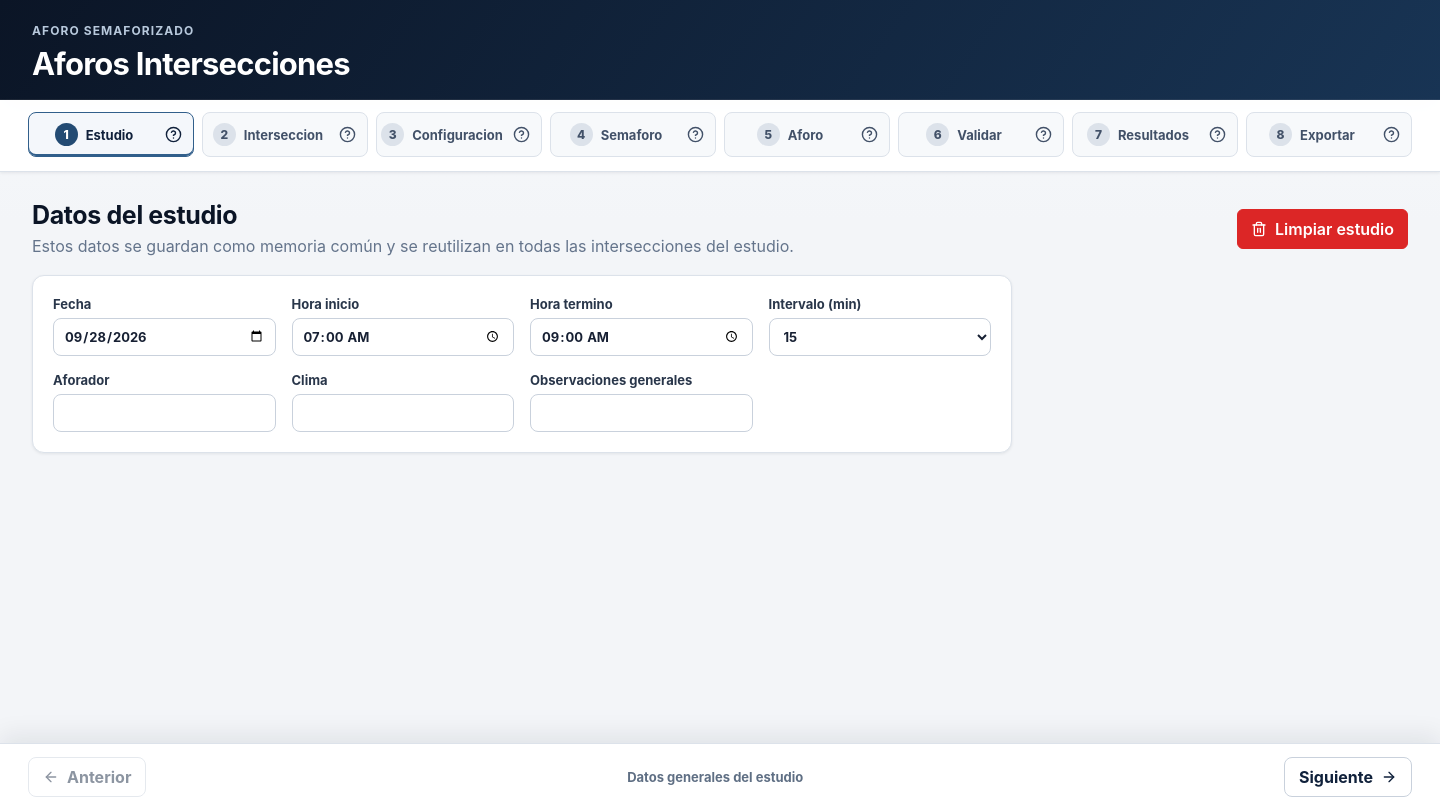
Test: WizardApp ficha aforo capture flow › shows capture progress and navigates from validation to Aforo
This screenshot has width=1452, height=810.
Click the button "2 Interseccion".
click(268, 135)  # box [208, 118, 328, 151]
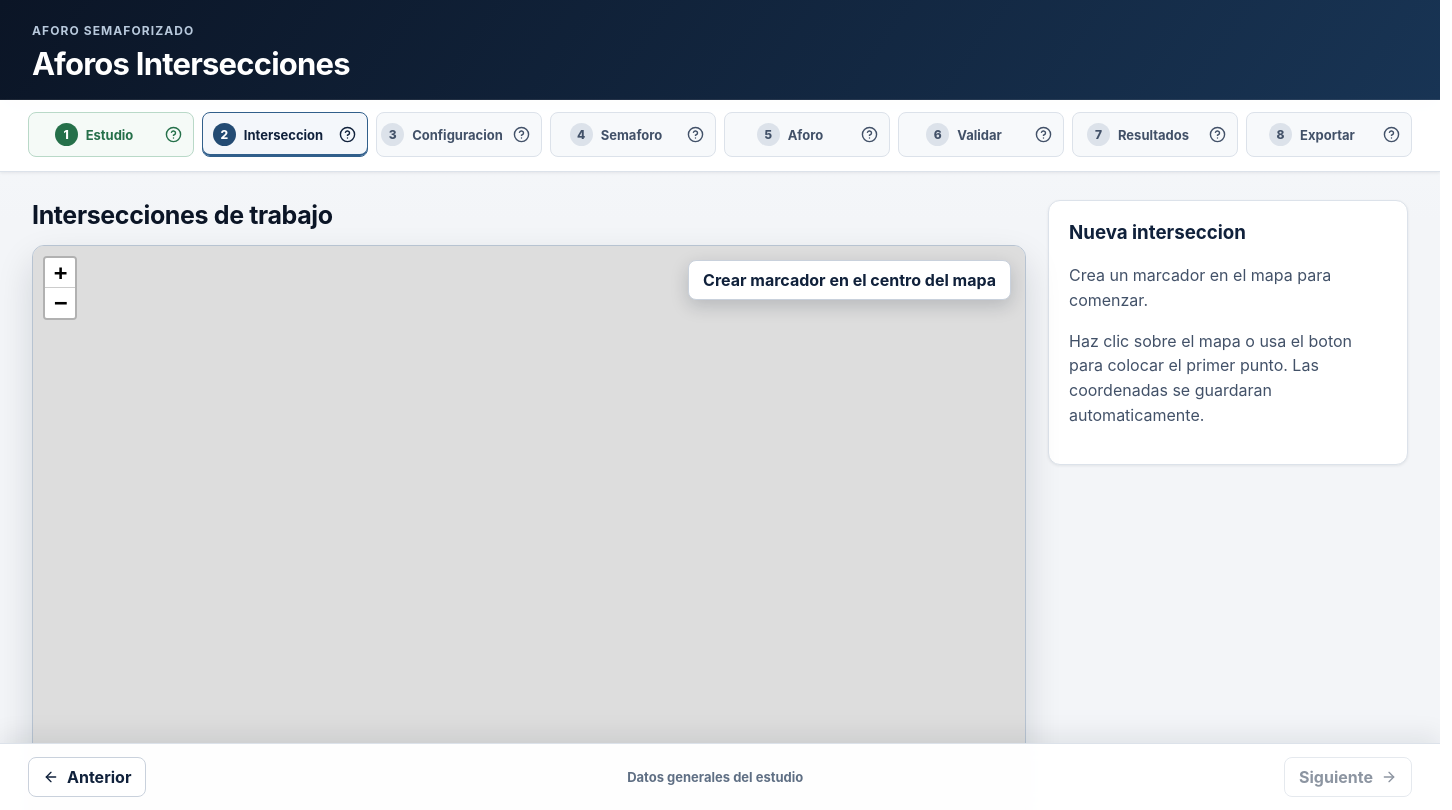
Click the button with aria-label "Crear una intersección en el centro visible del mapa".
click(850, 280)  # box [688, 260, 1011, 300]
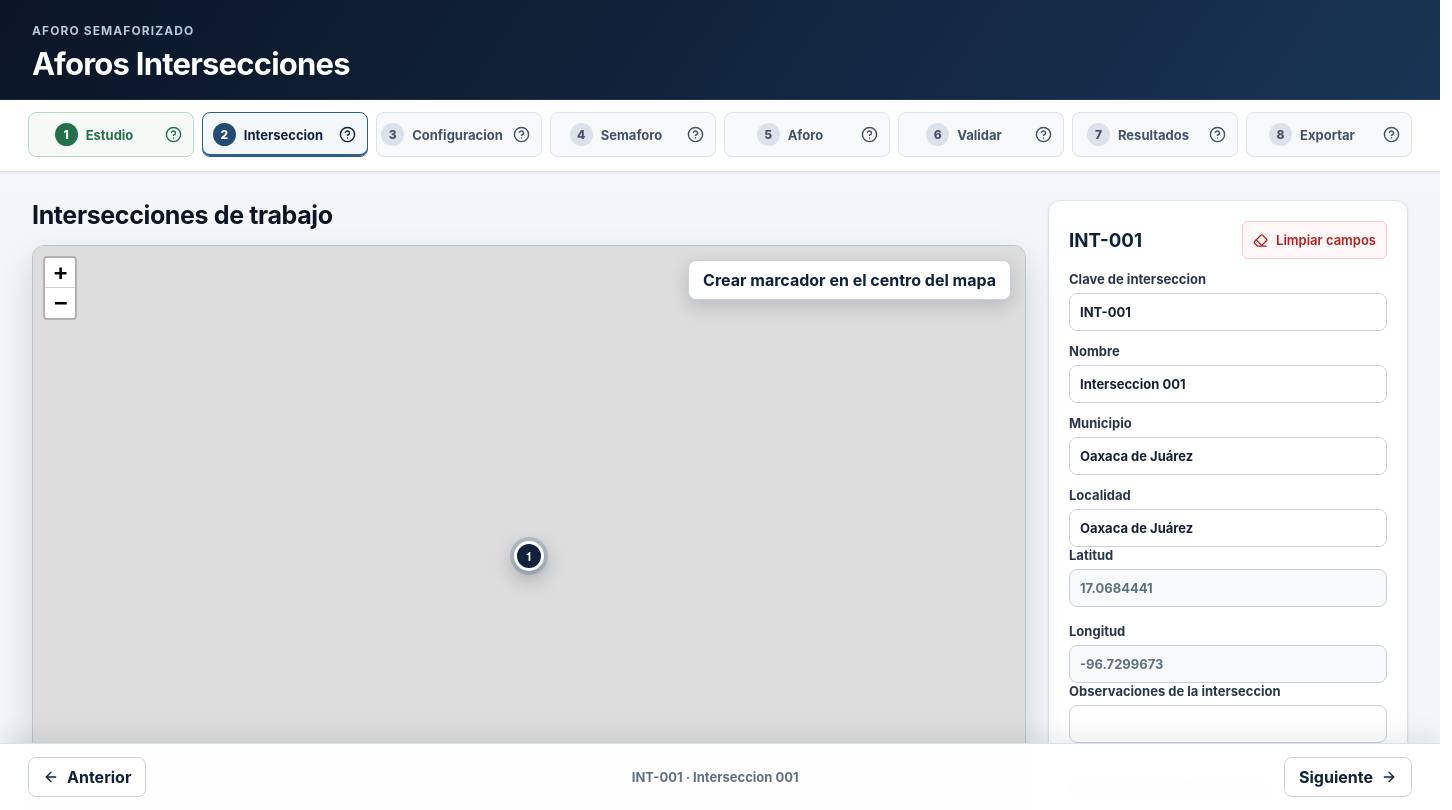
Click the button "5 Aforo".
click(790, 135)  # box [730, 118, 850, 151]
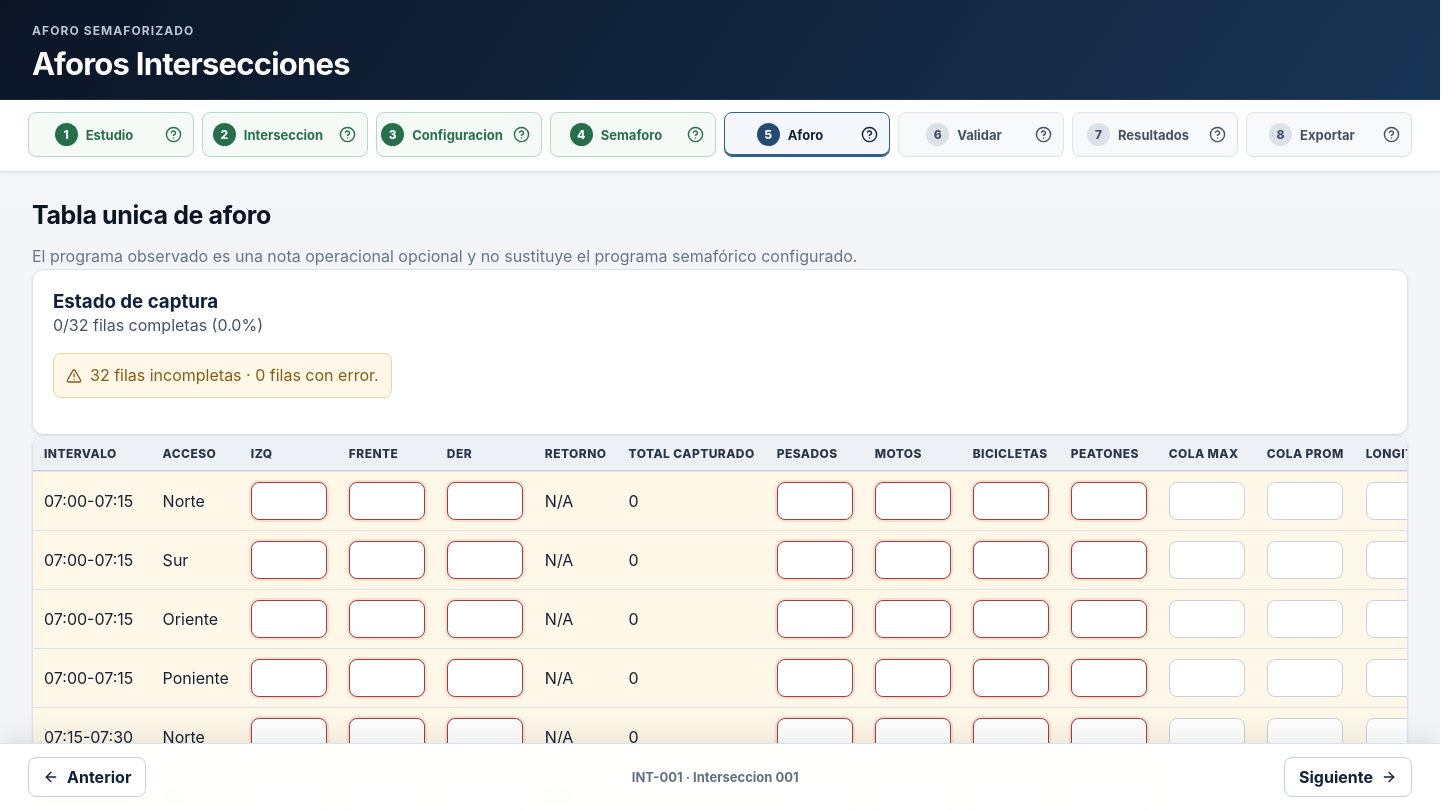
Expected: the text "0/32 filas completas (0.0%)" is shown, [53, 313, 263, 338]
Expected: the text "32 filas incompletas · 0 filas con error." is shown, [53, 354, 392, 398]
Click the button "6 Validar".
click(964, 135)  # box [904, 118, 1024, 151]
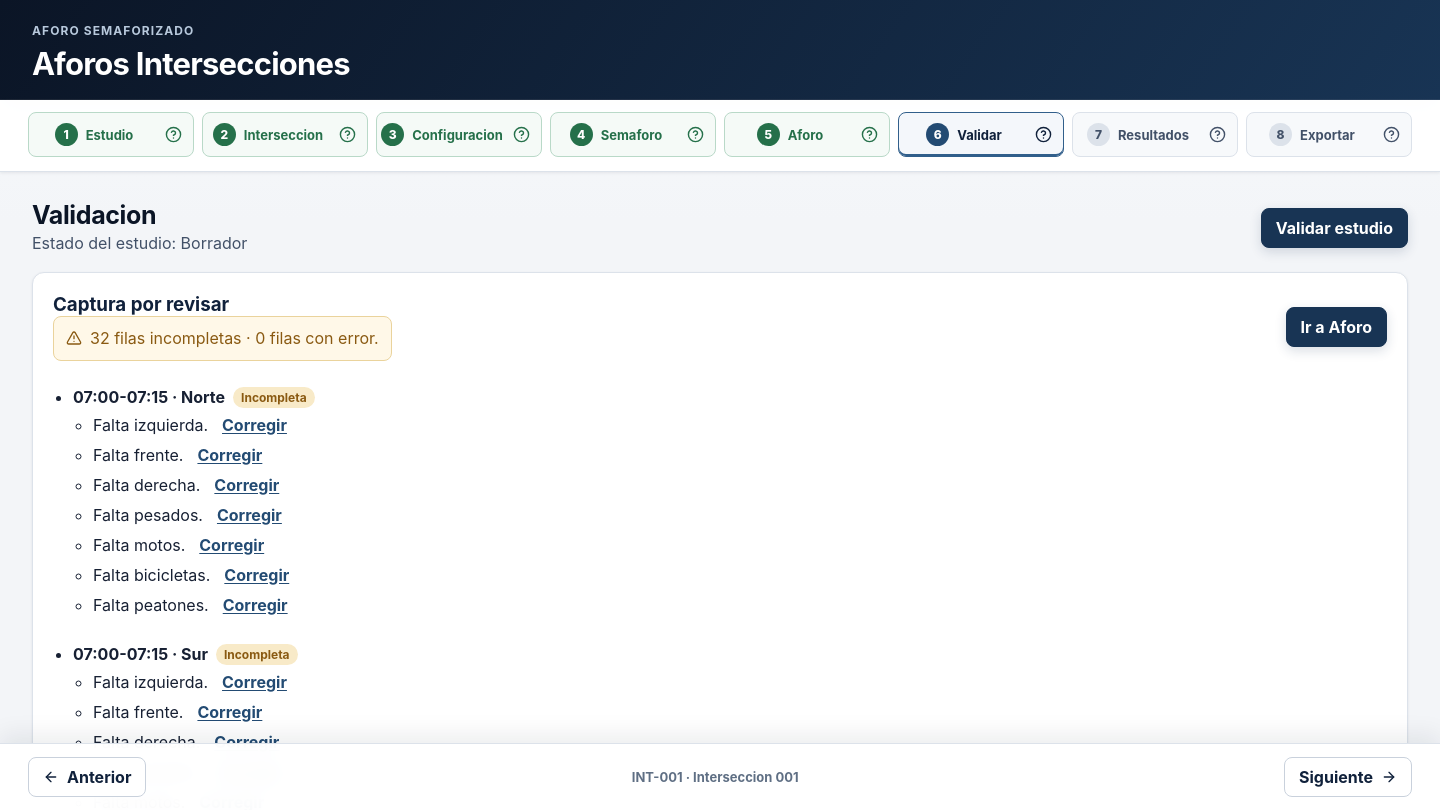
Expected: the heading "Captura por revisar" is shown, [53, 293, 229, 316]
Expected: the text "07:00-07:15 · Norte" is shown, [73, 387, 225, 407]
Click the button "Ir a Aforo".
click(1336, 327)  # box [1286, 307, 1387, 347]
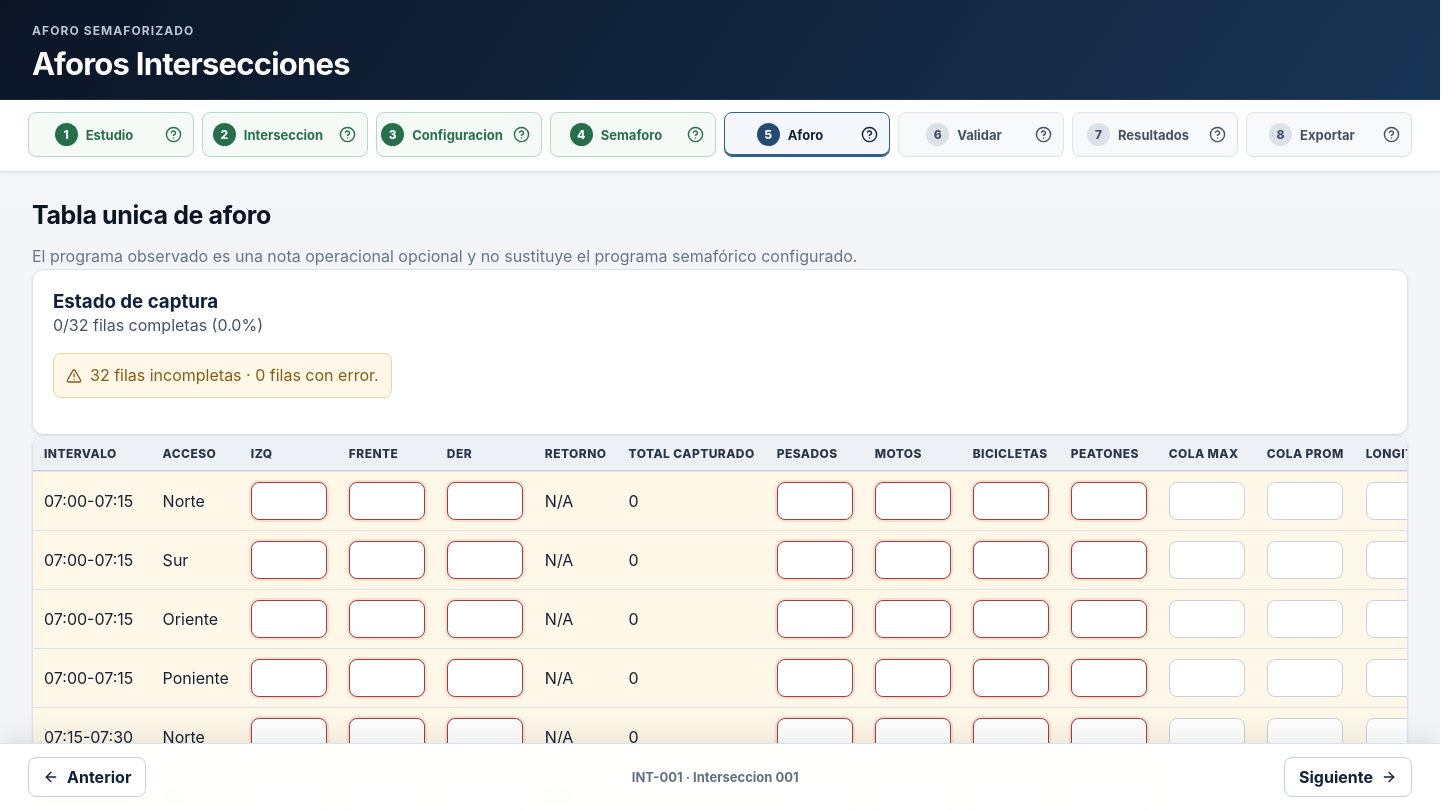
Expected: the heading "Tabla unica de aforo" is shown, [32, 200, 271, 230]
